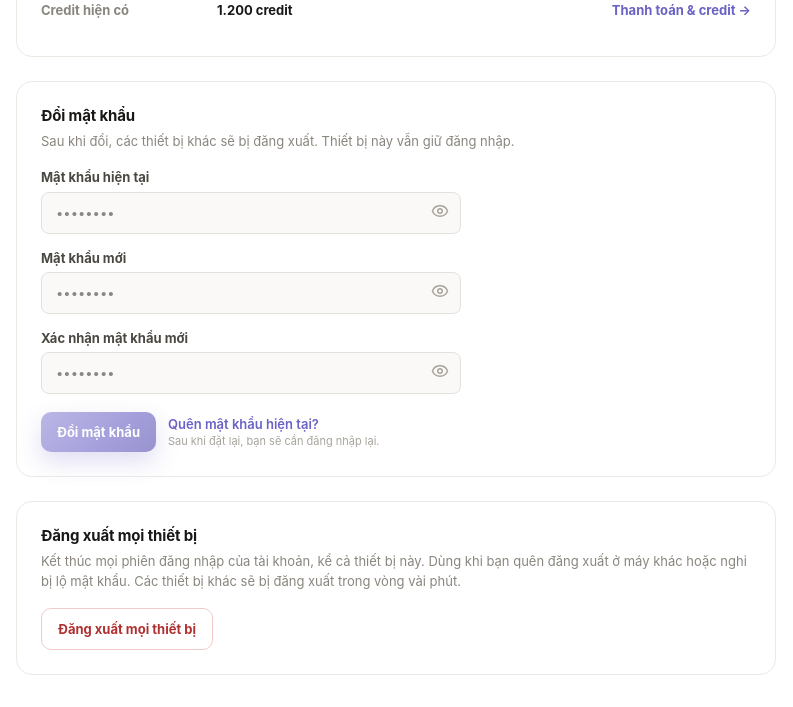
ProfilePage › logout-all lỗi ⇒ báo lỗi, ở lại trang, không chuyển về /login
(page scrolled)
Click the button "Đăng xuất mọi thiết bị" at (127, 629), box [41,608,213,650]
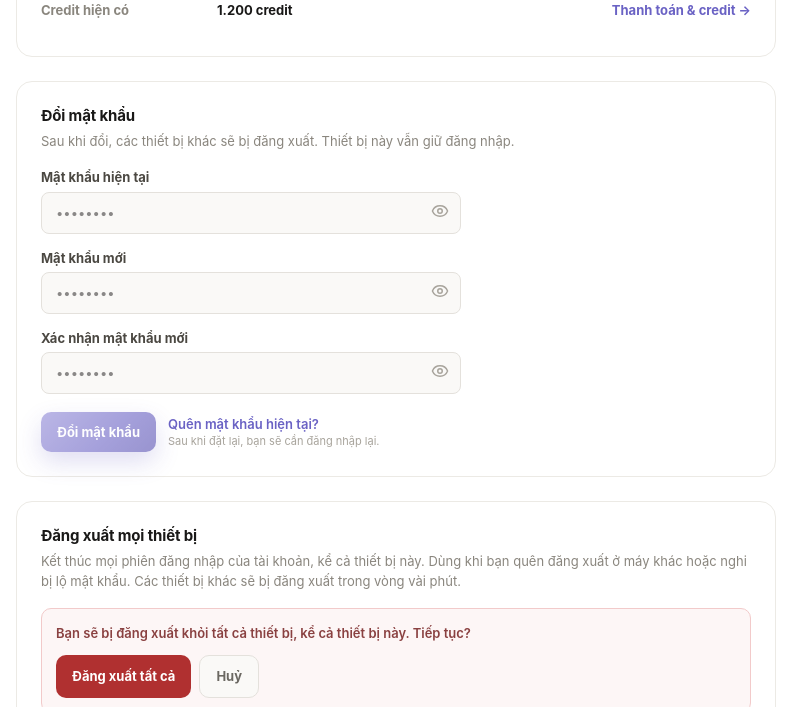
Click the button "Đăng xuất tất cả" at (124, 676), box [56,655,191,698]
(page scrolled)
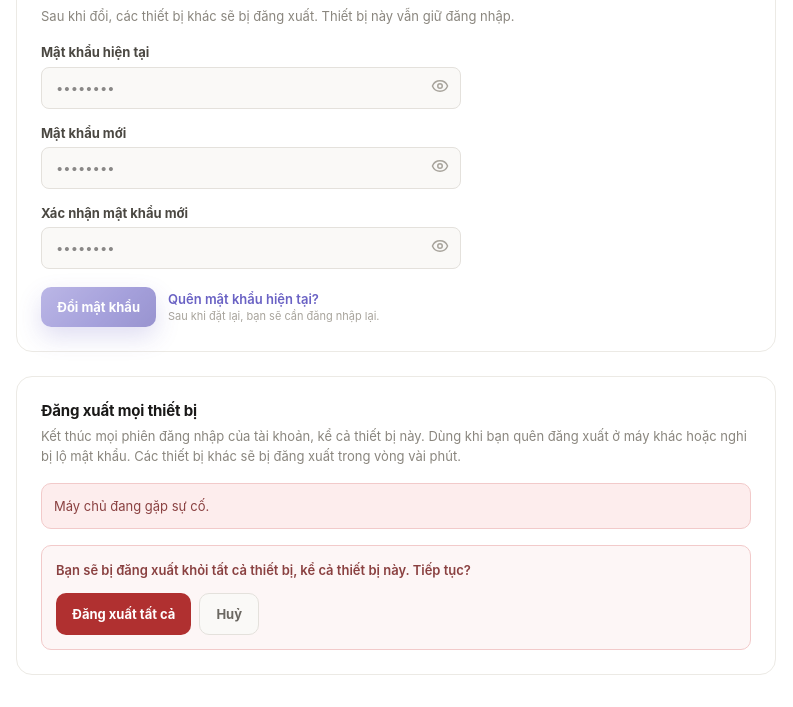
expect the button "Đăng xuất tất cả" is enabled: met, box [56,592,191,635]
expect the text "Máy chủ đang gặp sự cố." is shown: met, box [41,483,751,529]
